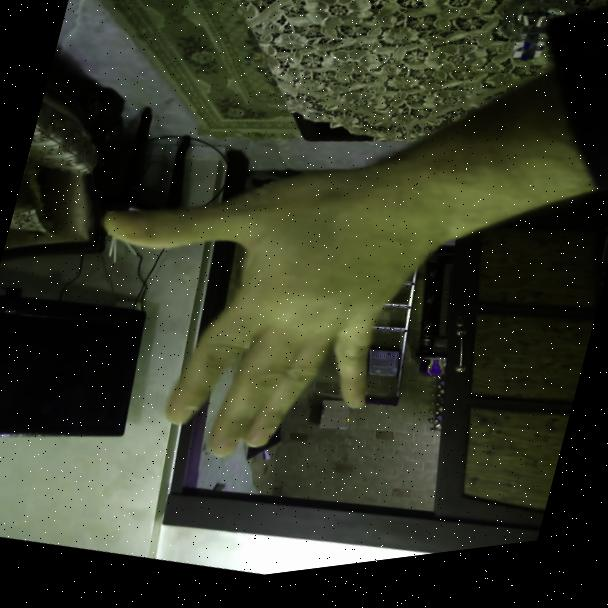five: (72, 111, 458, 520)
